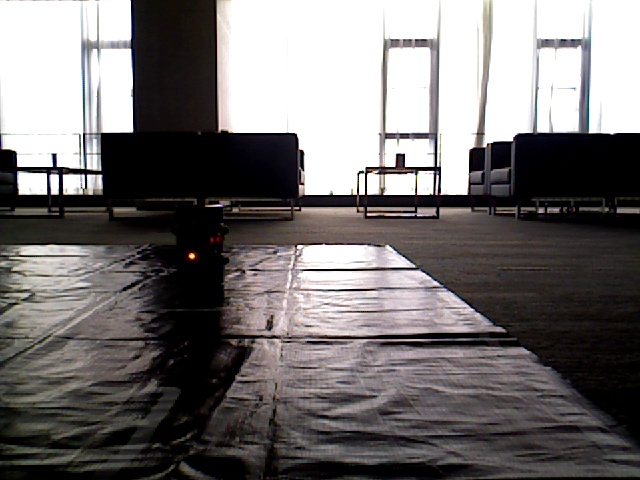yellow: (174, 205, 211, 294)
